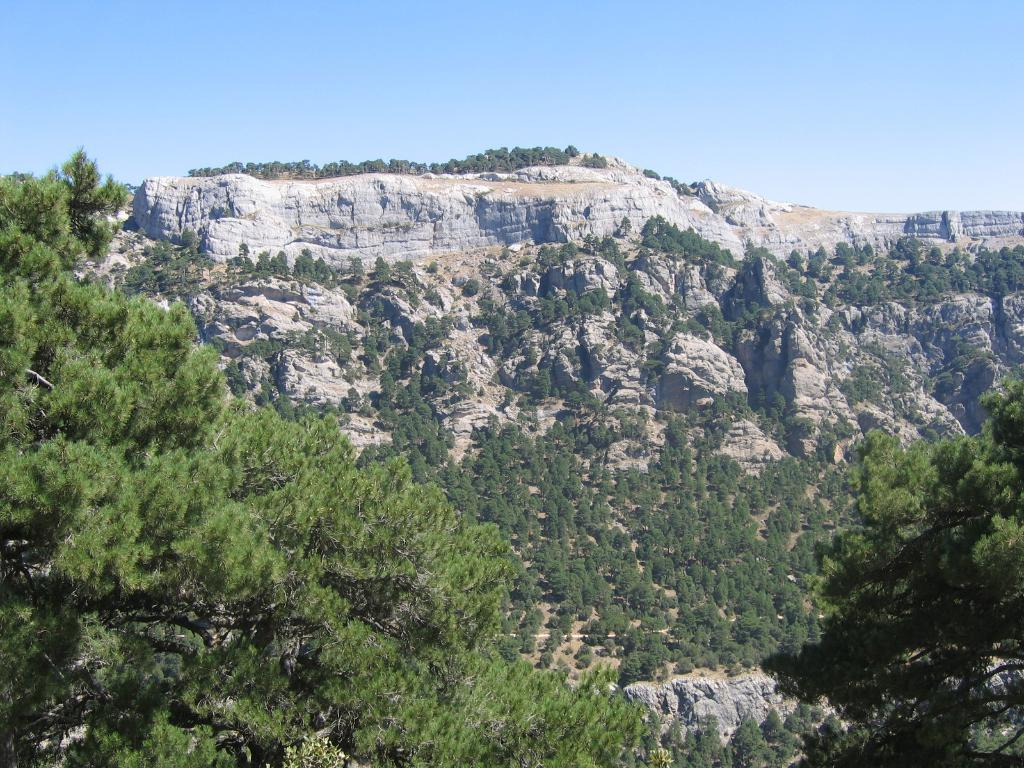Tree: (0, 146, 668, 767), (755, 374, 1023, 767), (569, 528, 711, 655), (757, 453, 871, 592), (673, 576, 819, 673), (661, 689, 837, 767), (496, 537, 579, 654), (536, 430, 618, 544), (609, 444, 707, 535), (700, 482, 761, 608), (551, 375, 645, 454), (376, 341, 453, 428), (667, 383, 757, 456), (121, 225, 206, 302), (640, 213, 742, 266), (472, 474, 547, 543), (835, 347, 913, 409), (470, 410, 536, 482), (397, 400, 459, 467), (531, 285, 611, 336), (947, 243, 1023, 296), (613, 273, 663, 346), (487, 284, 535, 359), (419, 145, 524, 176), (881, 259, 951, 305), (184, 159, 319, 181), (613, 625, 664, 682), (355, 298, 392, 373), (822, 267, 889, 305), (434, 464, 478, 516), (579, 236, 624, 284), (233, 241, 289, 277), (318, 157, 427, 174), (704, 453, 748, 494), (412, 311, 459, 348), (816, 412, 851, 461), (703, 302, 736, 353), (513, 364, 552, 403), (752, 387, 785, 433), (950, 341, 995, 373), (537, 240, 579, 272), (521, 144, 579, 167), (355, 441, 398, 471), (743, 241, 784, 272), (912, 366, 957, 393), (293, 248, 328, 282), (785, 270, 817, 304), (890, 232, 921, 266), (224, 356, 248, 398), (784, 415, 820, 442), (238, 336, 283, 357), (349, 385, 373, 419), (666, 291, 691, 321), (833, 238, 856, 270), (664, 173, 692, 197), (375, 255, 396, 286), (821, 310, 842, 341), (651, 394, 673, 423), (574, 639, 593, 672), (811, 243, 827, 282), (259, 372, 275, 404), (852, 242, 876, 263), (348, 255, 365, 284), (336, 282, 360, 302), (408, 456, 426, 482), (787, 245, 803, 272), (394, 263, 414, 282), (584, 152, 606, 167), (928, 243, 942, 266), (462, 278, 479, 295), (504, 269, 521, 284), (620, 216, 631, 237), (424, 258, 439, 273), (644, 170, 663, 181), (500, 248, 510, 261), (520, 254, 529, 264)
